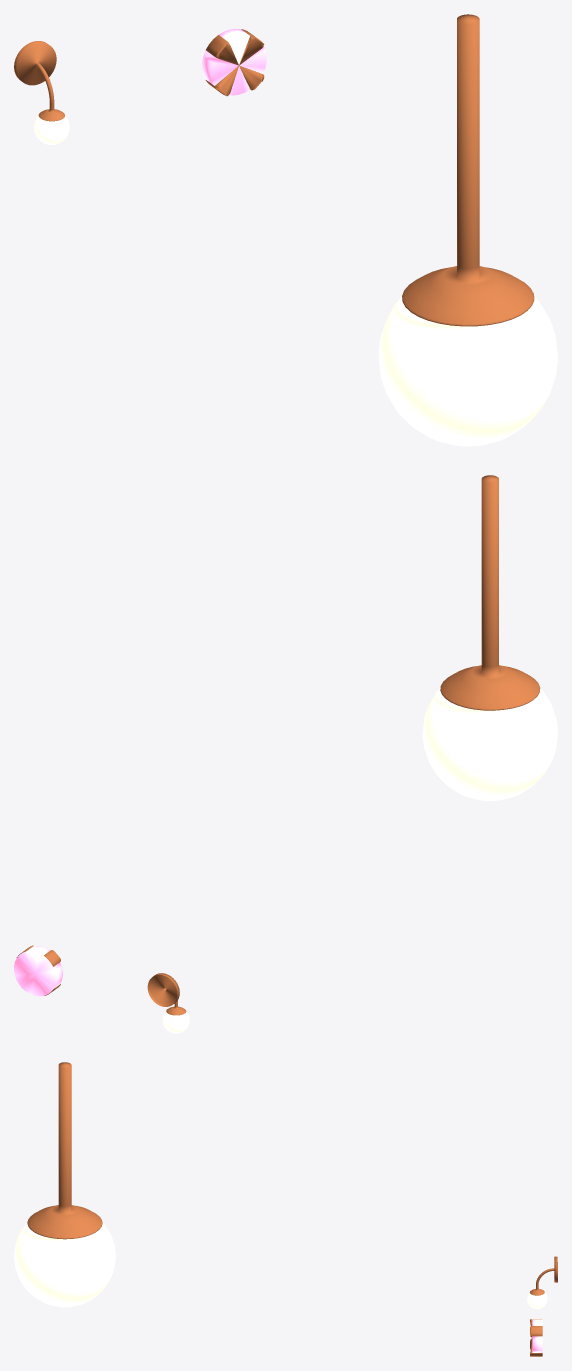
File: lamps.glb
The picture shows the model from 3 angles, top to bottom: view 1: azimuth 30°, elevation 25°; view 2: azimuth 150°, elevation 25°; view 3: azimuth 270°, elevation 25°; orthographic projection. The views are drawn at different scales.
Parts seen in each view (by area): view 1: Hang lamp001, Door lamp 001, Wall lamp001; view 2: Hang lamp001, Door lamp 001, Wall lamp001; view 3: Hang lamp001, Wall lamp001, Door lamp 001.
Part boxes in pixels (x1,y1,x2,y2): Hang lamp001: (378, 14, 557, 446); Door lamp 001: (202, 29, 266, 96); Wall lamp001: (14, 41, 69, 144); Hang lamp001: (422, 475, 557, 801); Door lamp 001: (14, 945, 62, 996); Wall lamp001: (147, 973, 189, 1033); Hang lamp001: (14, 1062, 115, 1307); Wall lamp001: (527, 1256, 557, 1309); Door lamp 001: (530, 1319, 542, 1356).
Bounding box in the file's own units: 1.85 × 2.64 × 5.33.
